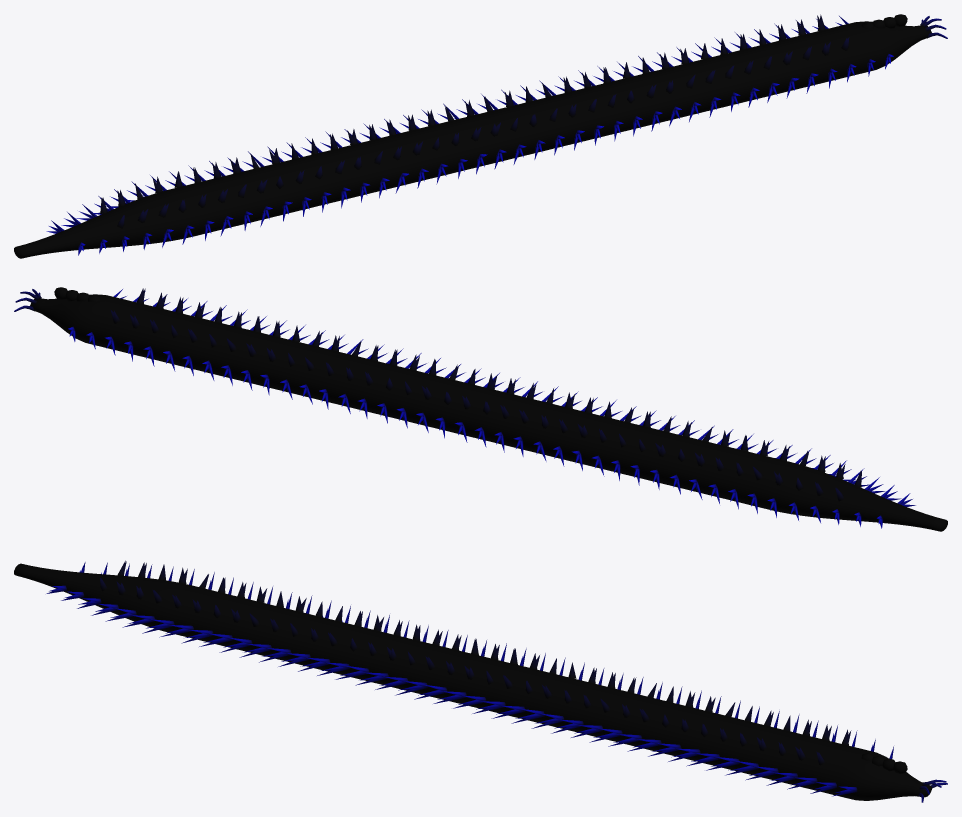
File: micro_bristleworm.glb
The picture shows the model from 3 angles, top to bottom: view 1: azimuth 30°, elevation 25°; view 2: azimuth 150°, elevation 25°; view 3: azimuth 330°, elevation 25°; orthographic projection.
Parts seen in each view (by area): view 1: Body, Branchiae, Chaetae; view 2: Body, Chaetae, Branchiae; view 3: Body, Chaetae, Branchiae.
Part boxes in pixels (box(x1,y1,x2,y2)): Body: box(14, 14, 931, 258); Branchiae: box(100, 14, 849, 228); Chaetae: box(46, 16, 893, 255); Body: box(30, 287, 947, 531); Chaetae: box(68, 289, 915, 528); Branchiae: box(110, 288, 861, 501); Body: box(14, 563, 931, 800); Chaetae: box(46, 562, 893, 796); Branchiae: box(100, 560, 851, 765).
Size of the model in its own units: 1.02 by 0.0507 by 0.1292.
1 material, 1 textured.
